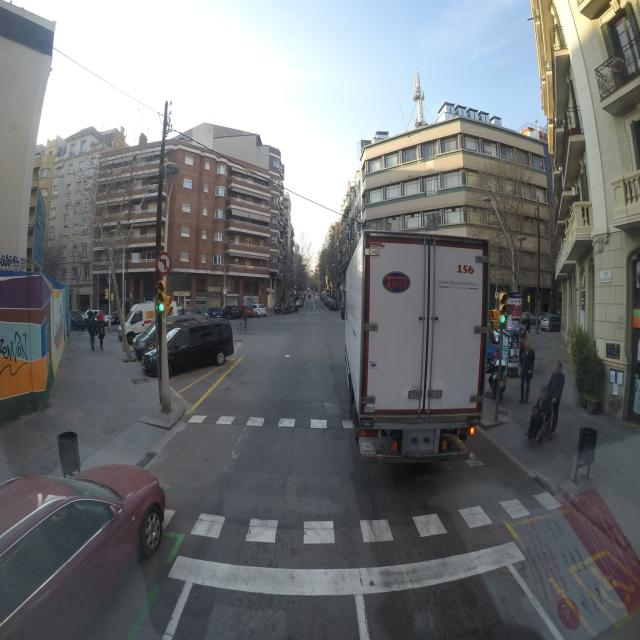car: (140, 318, 235, 378), (130, 315, 198, 361), (120, 302, 164, 343), (540, 313, 562, 332), (68, 310, 86, 330), (224, 304, 242, 320), (206, 307, 224, 321), (106, 310, 121, 326), (251, 303, 267, 317), (328, 297, 338, 311), (274, 303, 284, 315), (294, 296, 304, 307)
